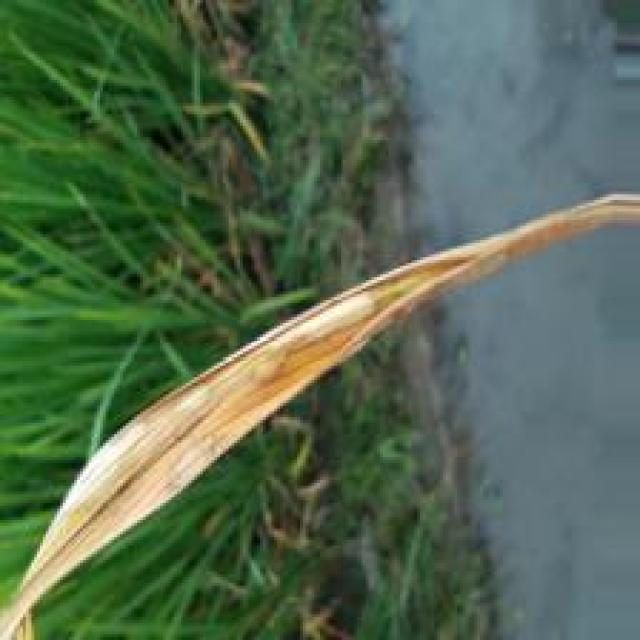Leaf_Scald: (2, 188, 640, 640)
